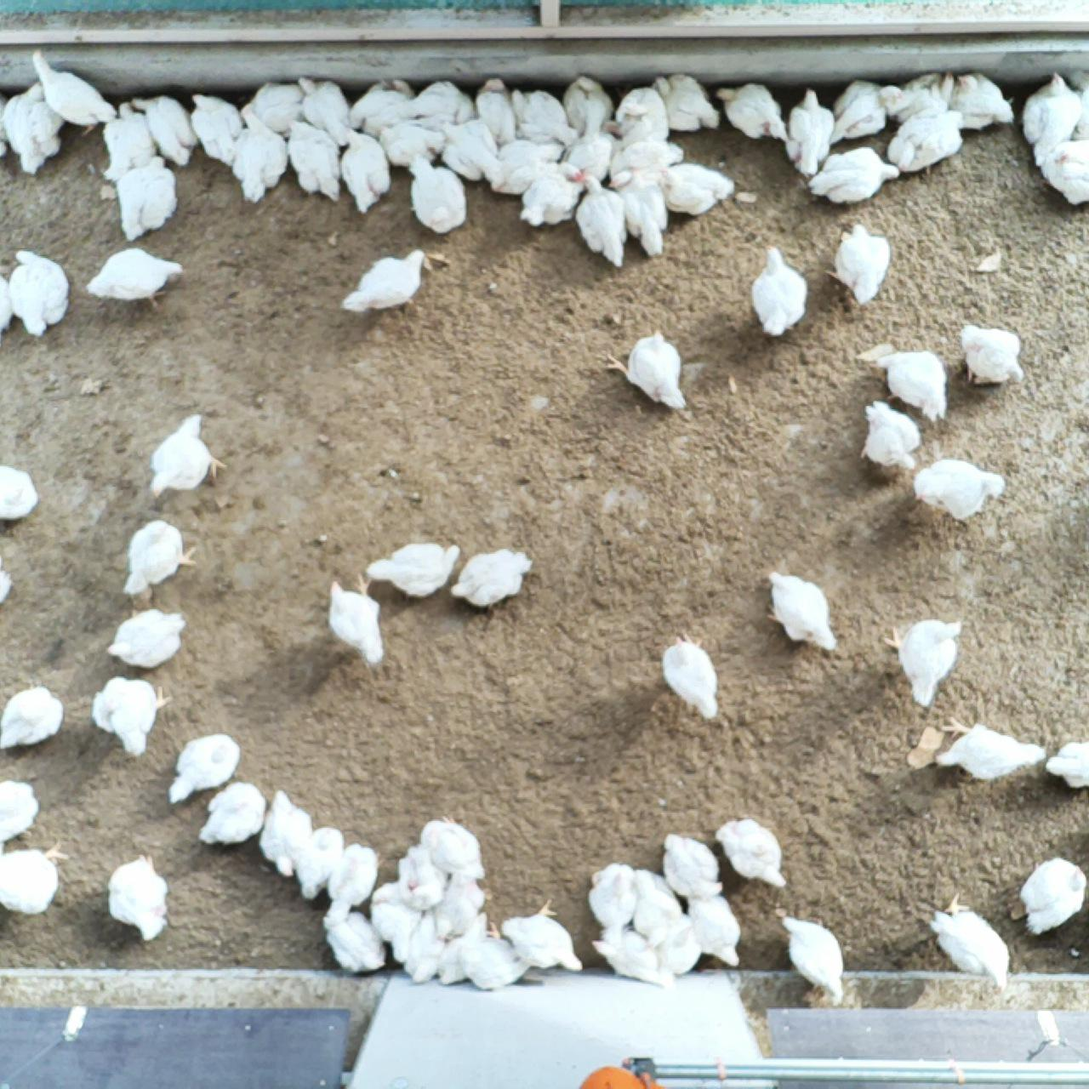chicken: (923, 889, 1013, 994), (934, 710, 1051, 787), (876, 613, 965, 708), (29, 45, 116, 137), (603, 327, 690, 418), (148, 410, 231, 501), (91, 669, 172, 758), (498, 896, 586, 975), (761, 568, 841, 654), (777, 913, 850, 1006), (85, 245, 186, 312), (105, 847, 173, 944), (338, 246, 432, 315), (113, 155, 184, 244), (711, 814, 793, 891), (6, 246, 73, 339), (749, 241, 813, 338), (912, 458, 1007, 523), (1018, 69, 1081, 167), (656, 629, 722, 722), (1018, 852, 1089, 938), (120, 517, 197, 596), (3, 80, 67, 175), (574, 174, 638, 268), (327, 569, 389, 666), (872, 349, 954, 422), (823, 221, 893, 306), (367, 537, 464, 598), (0, 839, 71, 921), (805, 144, 902, 204), (230, 109, 291, 204), (449, 546, 535, 613), (103, 602, 189, 669), (827, 76, 907, 147), (167, 730, 242, 804), (334, 124, 392, 219), (260, 788, 319, 880), (886, 109, 965, 176), (957, 317, 1031, 388), (656, 827, 727, 901), (595, 924, 674, 990), (419, 811, 489, 884), (130, 93, 199, 167), (369, 875, 425, 966), (485, 138, 567, 200), (855, 397, 922, 472), (197, 778, 268, 848), (464, 918, 533, 990), (408, 155, 470, 235), (100, 99, 159, 183), (784, 84, 837, 177), (321, 909, 390, 976), (328, 842, 385, 923), (0, 683, 65, 754), (519, 157, 583, 229), (289, 118, 343, 203), (295, 73, 356, 148), (188, 90, 248, 166), (713, 79, 787, 140), (434, 911, 492, 988), (651, 71, 723, 133), (617, 178, 672, 258), (689, 893, 745, 971), (608, 137, 689, 190), (507, 85, 579, 144), (658, 163, 738, 216), (631, 864, 682, 946), (884, 70, 956, 128), (439, 118, 505, 181), (433, 866, 487, 941), (299, 821, 346, 903), (587, 862, 639, 936), (559, 74, 617, 140), (611, 83, 672, 144), (351, 77, 421, 130), (1039, 136, 1089, 210), (951, 73, 1017, 129), (396, 837, 446, 908), (403, 908, 446, 988), (655, 911, 706, 975), (245, 78, 303, 134), (409, 78, 478, 125), (373, 120, 444, 165), (0, 459, 40, 527), (0, 776, 40, 844), (564, 132, 615, 183), (1042, 738, 1089, 789), (476, 84, 517, 141)
